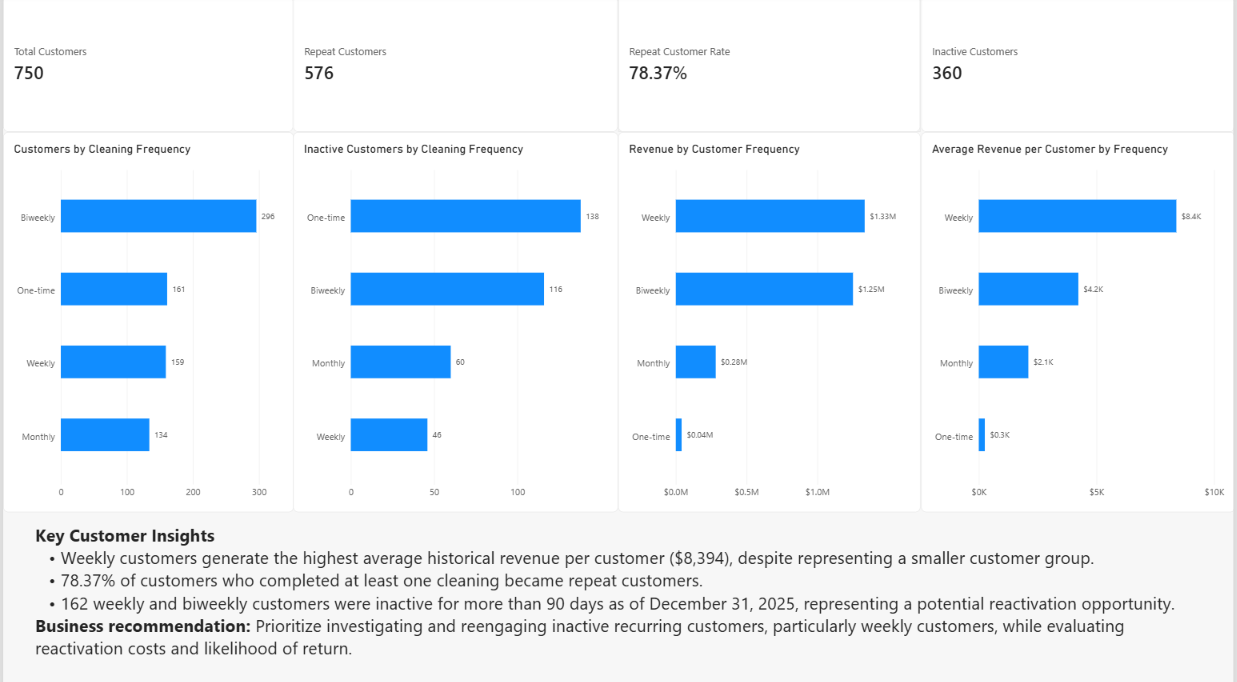

The dashboard page shown, as its layout file describes it:
{"tool":"powerbi","page":{"name":"Customer Analytics","canvas":[1920,1080],"ordinal":1},"visuals":[{"type":"cardVisual","fields":{"Data":["customers.Total Customers"]},"box":[0,0,452.8,212],"z":0},{"type":"cardVisual","fields":{"Data":["customers.Repeat Customers"]},"box":[452.8,0,506.3,212],"z":1},{"type":"cardVisual","fields":{"Data":["customers.Repeat Customer Rate"]},"box":[959.2,0,471.4,212],"z":2},{"type":"clusteredBarChart","title":"Customers by Cleaning Frequency","fields":{"Category":["customers.cleaning_frequency"],"Y":["customers.Total Customers"]},"box":[0,212,452.8,592.8],"z":3},{"type":"clusteredBarChart","title":"Revenue by Customer Frequency ","fields":{"Category":["customers.cleaning_frequency"],"Y":["bookings.Total Revenue"]},"box":[959.2,212,471.4,592.8],"z":4},{"type":"cardVisual","fields":{"Data":["customers.Inactive Customers"]},"box":[1430.5,0,489.9,212],"z":5},{"type":"clusteredBarChart","title":"Inactive Customers by Cleaning Frequency","fields":{"Category":["customers.cleaning_frequency"],"Y":["customers.Inactive Customers"]},"box":[452.8,212,506.3,592.8],"z":6},{"type":"clusteredBarChart","title":"Average Revenue per Customer by Frequency ","fields":{"Category":["customers.cleaning_frequency"],"Y":["customers.Average Customer Revenue"]},"box":[1430.5,212,489.9,592.8],"z":7},{"type":"textbox","box":[49.4,821.3,1817.5,259.3],"z":9}]}

Visuals, with their boxes in screenshot pixels (x1, y1, x2, y2), scaled from the page's 1920x1080 canvas onto the 1237x682 screenshot:
cardVisual - customers.Total Customers: [0,0,292,134]
cardVisual - customers.Repeat Customers: [292,0,618,134]
cardVisual - customers.Repeat Customer Rate: [618,0,922,134]
"Customers by Cleaning Frequency" clusteredBarChart: [0,134,292,508]
"Revenue by Customer Frequency " clusteredBarChart: [618,134,922,508]
cardVisual - customers.Inactive Customers: [922,0,1236,134]
"Inactive Customers by Cleaning Frequency" clusteredBarChart: [292,134,618,508]
"Average Revenue per Customer by Frequency " clusteredBarChart: [922,134,1236,508]
textbox: [32,519,1203,681]
